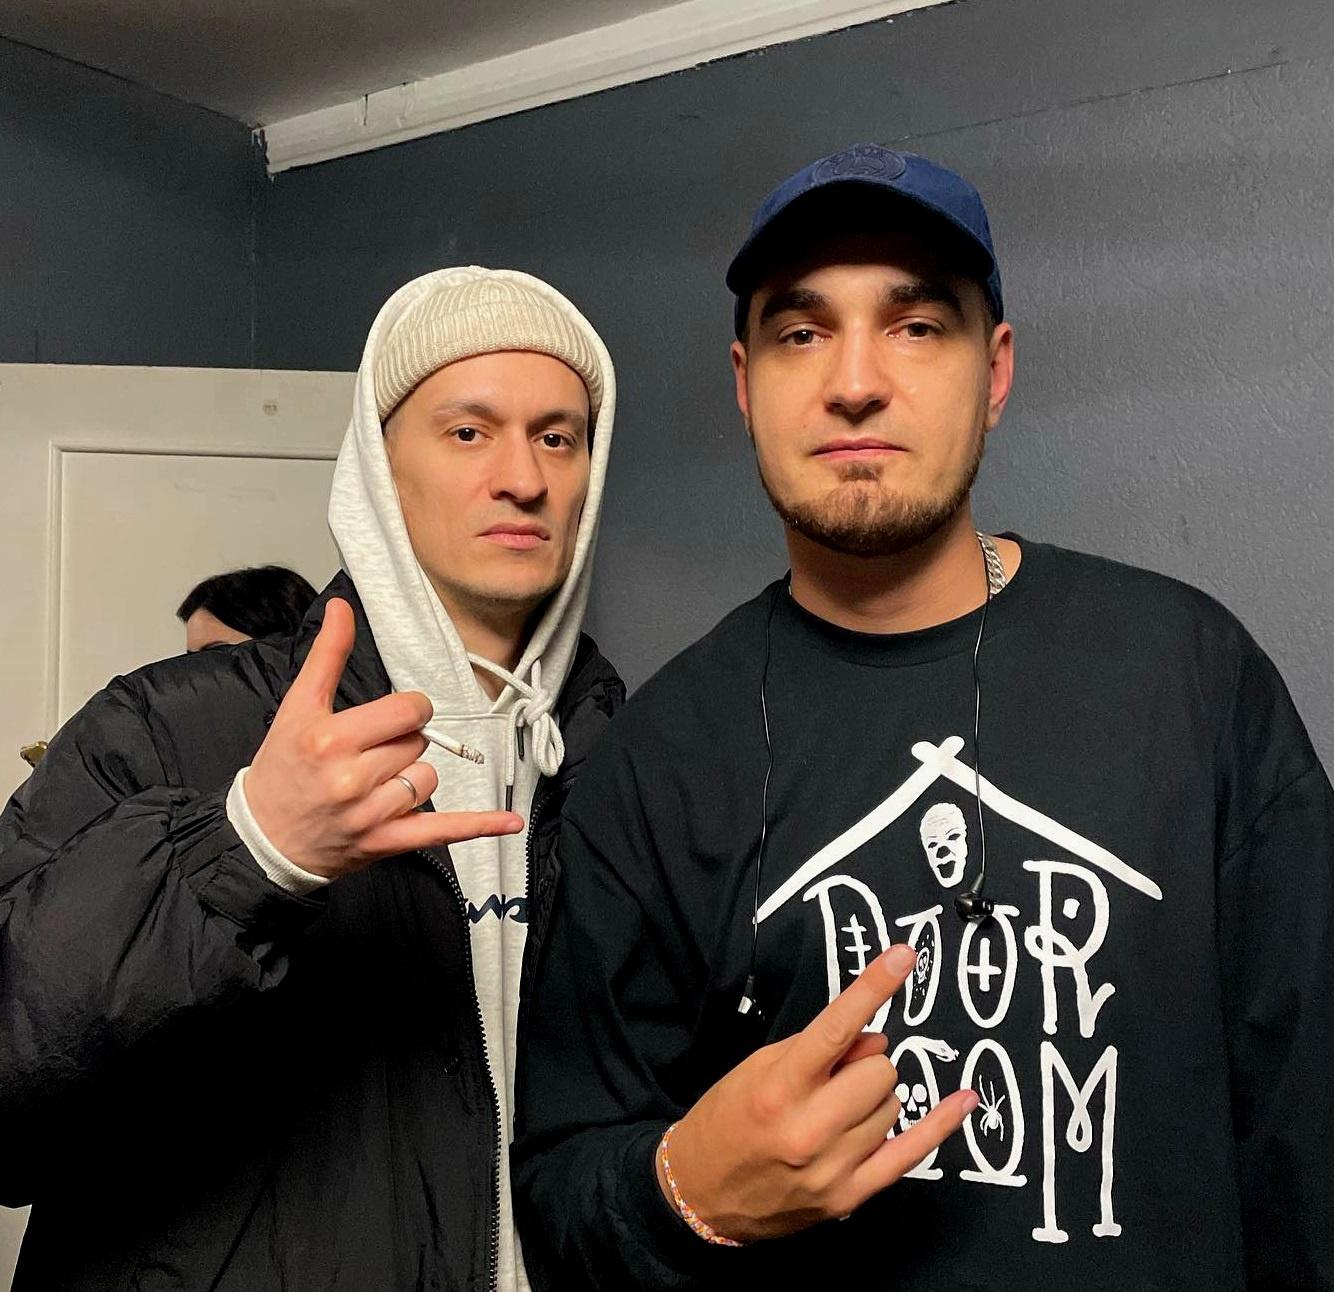cigarette: (418, 726, 485, 764)
